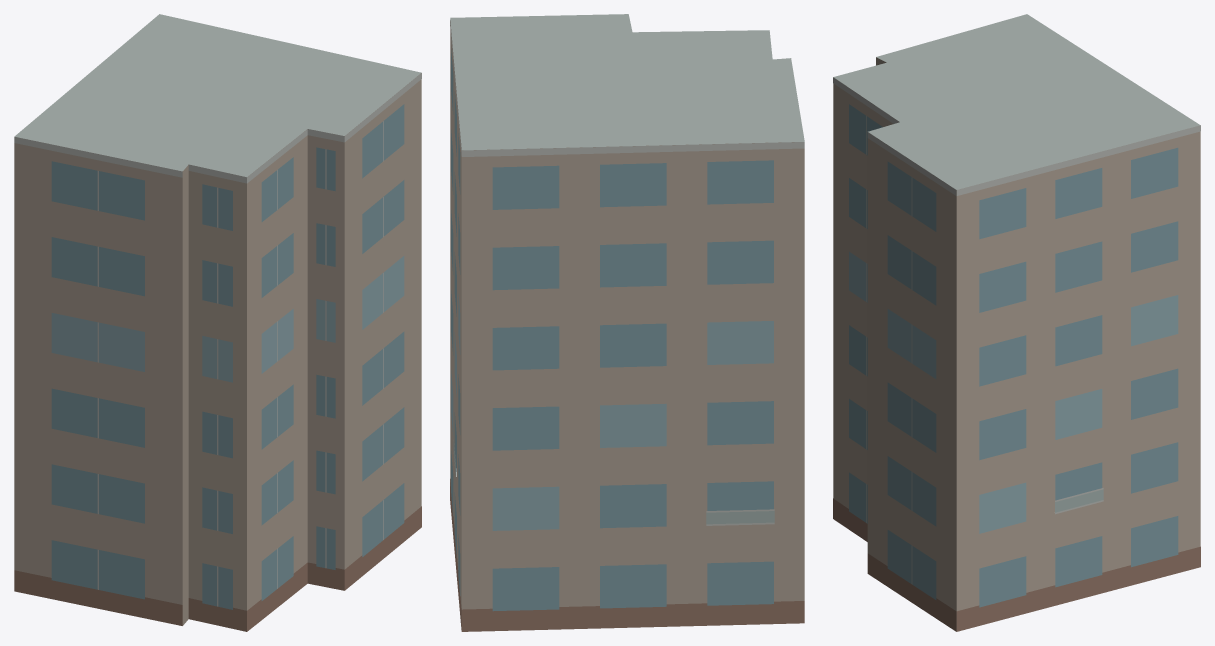
Rendered from survey-upis-32847859.glb.
3 renders of one model, left to right at view 1: azimuth 30°, elevation 25°; view 2: azimuth 150°, elevation 25°; view 3: azimuth 270°, elevation 25°, orthographic. The views are drawn at different scales.
Visible parts, largest first — view 1: survey-upis-32847859.tmp; view 2: survey-upis-32847859.tmp; view 3: survey-upis-32847859.tmp.
Part boxes in pixels (x1=…): survey-upis-32847859.tmp: x1=14, y1=14, x2=421, y2=631; survey-upis-32847859.tmp: x1=450, y1=14, x2=804, y2=631; survey-upis-32847859.tmp: x1=833, y1=14, x2=1200, y2=631.
Bounding box in the file's own units: 14.96 × 17.5 × 13.2.
